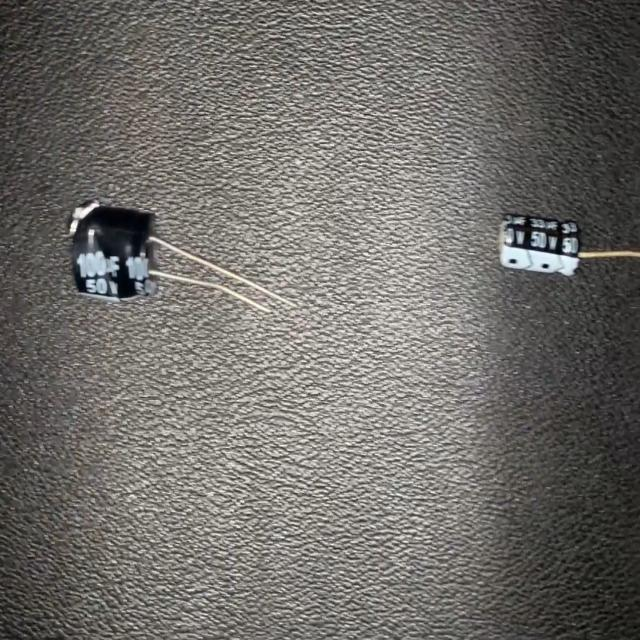capacitor: (65, 197, 298, 319)
cracked: (77, 227, 127, 274), (68, 202, 100, 238)
missing-leg: (495, 210, 640, 280)
